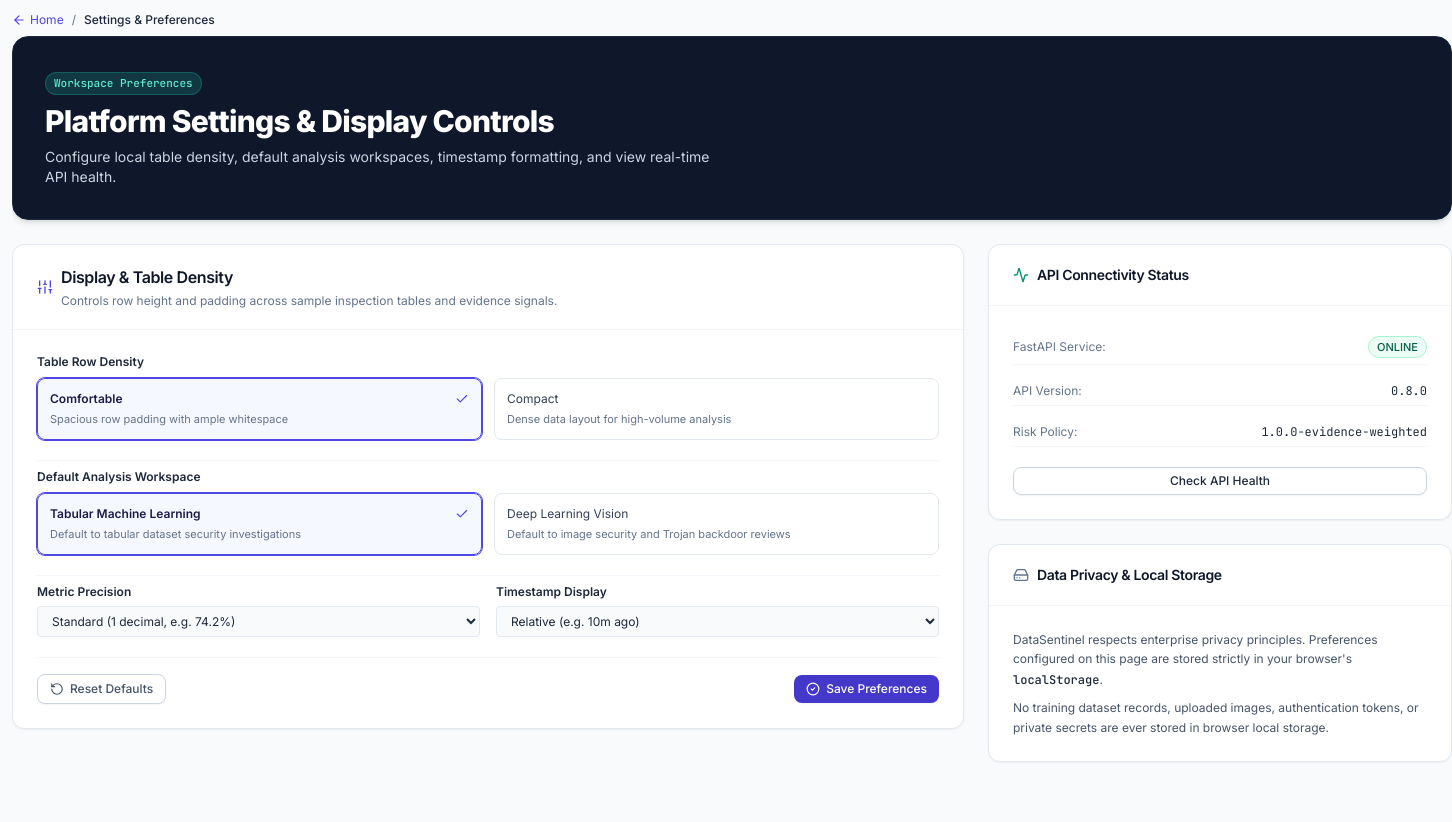
it: Phase 6 Remaining Pages Verification › SettingsPage Preferences & Persistence › toggles table density, saves to localStorage, and shows feedback
Expected: the text "ONLINE" is shown, left=1368, top=336, right=1427, bottom=358
Click the button "Compact Dense data layout for high-volume analysis". click: point(716, 408)
box: left=494, top=378, right=939, bottom=440
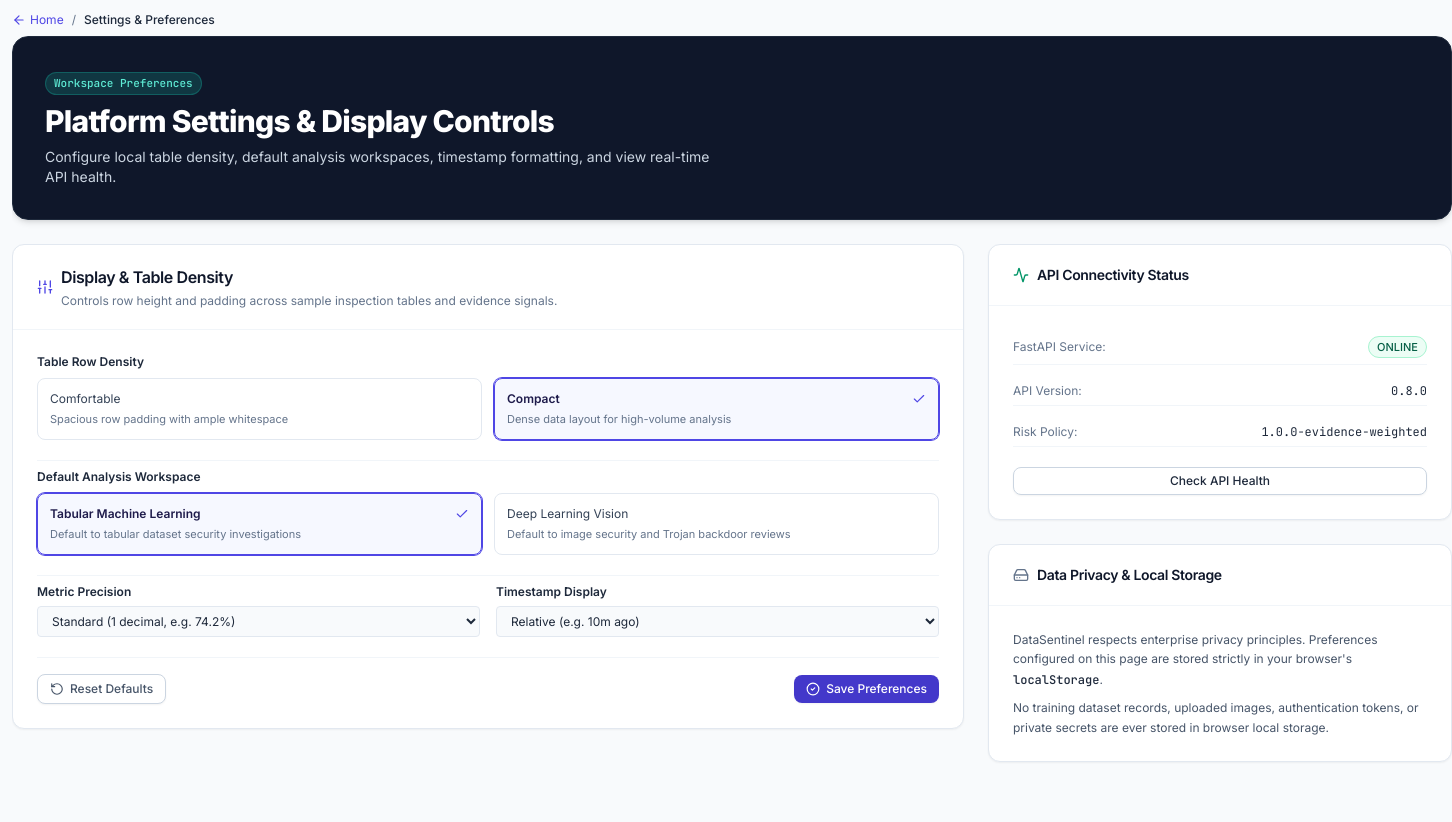
Click the button "Save Preferences". click: point(867, 688)
box: left=794, top=674, right=939, bottom=702
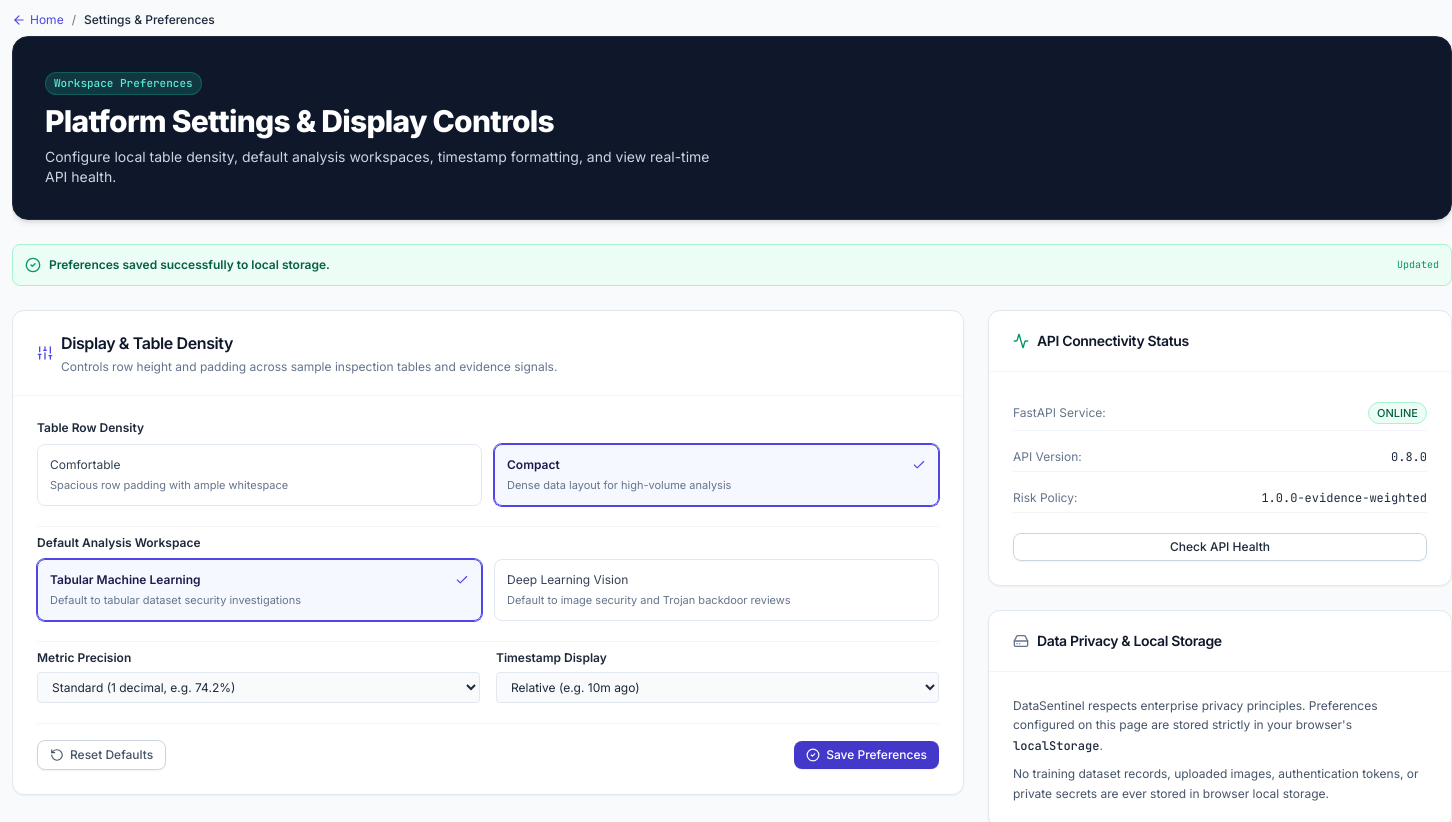
Expected: the text "Preferences saved successfully to local storage." is shown, left=49, top=256, right=330, bottom=272
